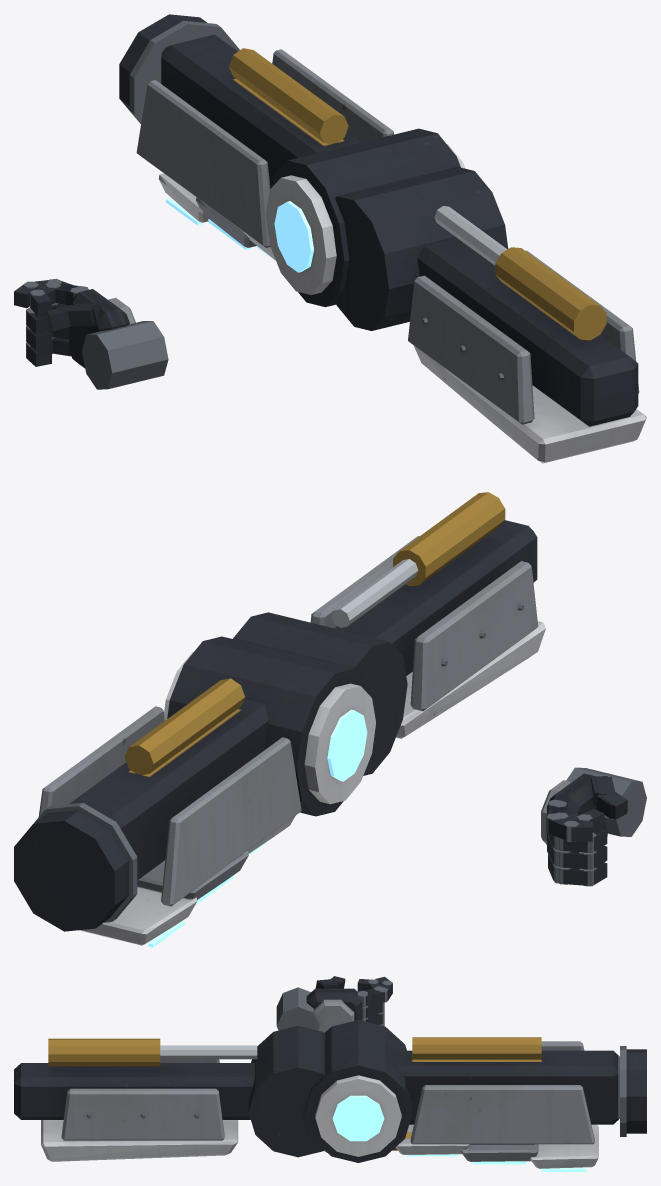
Rendered from arm.glb.
The picture shows the model from 3 angles, top to bottom: view 1: azimuth 30°, elevation 25°; view 2: azimuth 150°, elevation 25°; view 3: azimuth 270°, elevation 25°; orthographic projection. The views are drawn at different scales.
Parts seen in each view (by area): view 1: armU|base|, armF|base|, hand|base|, fist|base|, armF|base|hmd; view 2: armF|base|, armU|base|, hand|base|, fist|base|, armF|base|hmd; view 3: armF|base|, armU|base|, fist|base|, armF|base|hmd, hand|base|.
Boxes of the visible parts, x1=… form: armU|base|: x1=335, y1=167, x2=646, y2=463; armF|base|: x1=119, y1=14, x2=465, y2=306; hand|base|: x1=14, y1=278, x2=164, y2=389; fist|base|: x1=30, y1=281, x2=168, y2=384; armF|base|hmd: x1=166, y1=198, x2=313, y2=272; armF|base|: x1=14, y1=636, x2=375, y2=945; armU|base|: x1=233, y1=492, x2=545, y2=775; hand|base|: x1=546, y1=773, x2=646, y2=886; fist|base|: x1=541, y1=767, x2=636, y2=883; armF|base|hmd: x1=148, y1=709, x2=367, y2=947; armF|base|: x1=304, y1=1020, x2=646, y2=1168; armU|base|: x1=14, y1=1025, x2=325, y2=1161; fist|base|: x1=276, y1=979, x2=384, y2=1032; armF|base|hmd: x1=332, y1=1095, x2=586, y2=1171; hand|base|: x1=276, y1=976, x2=392, y2=1024.
Size of the model in its own units: 1.6 by 0.606 by 2.94.
2 materials, 1 textured.
